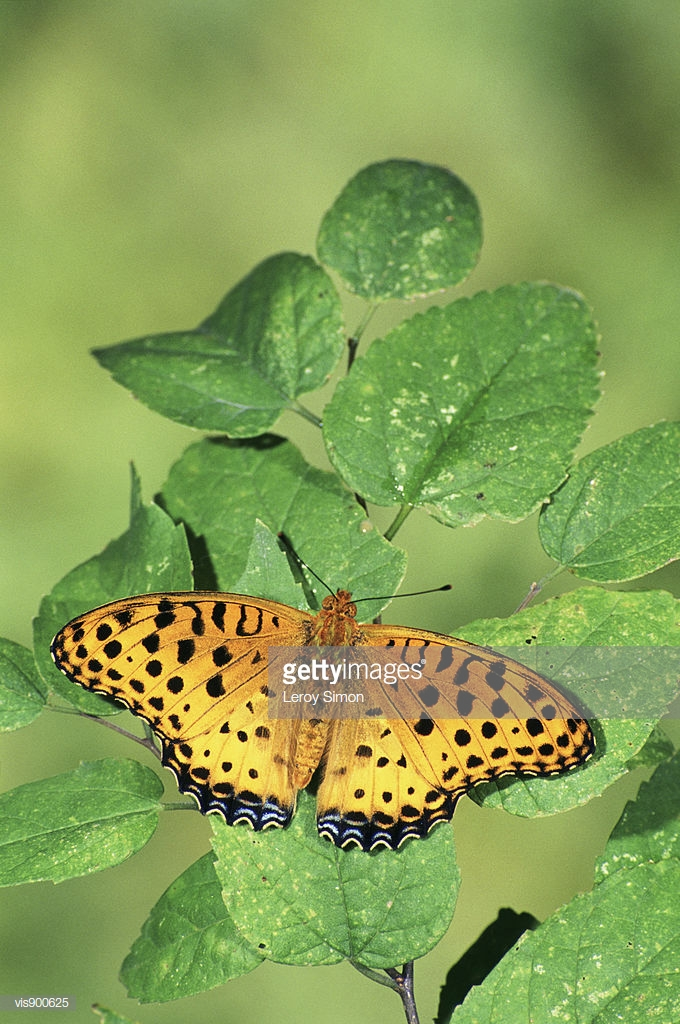Argyreus hyperbius: (42, 527, 612, 861)
butterfly: (44, 529, 614, 863)
